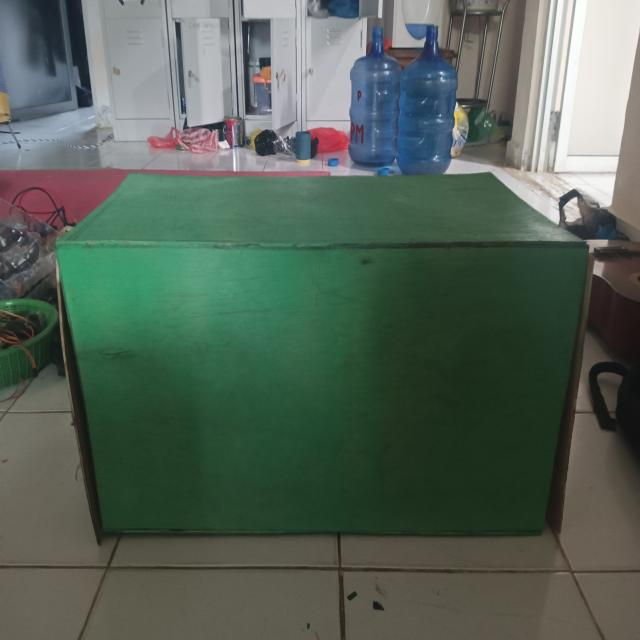green_box: (50, 162, 570, 529)
